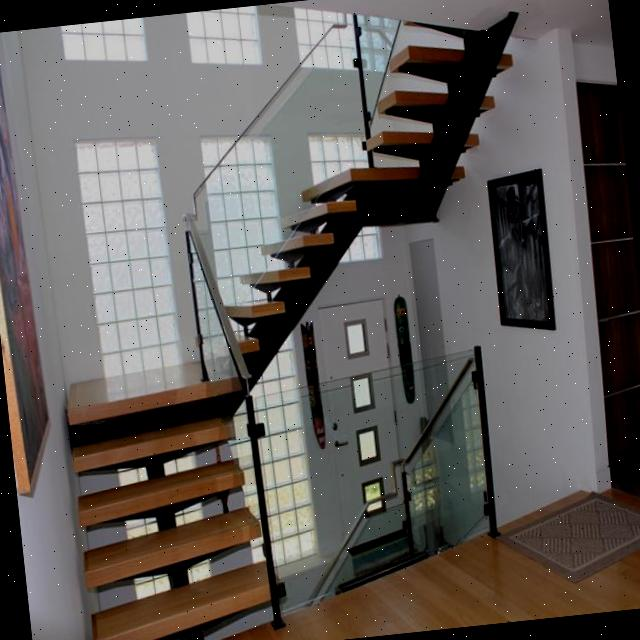stairs: (26, 4, 578, 640)
